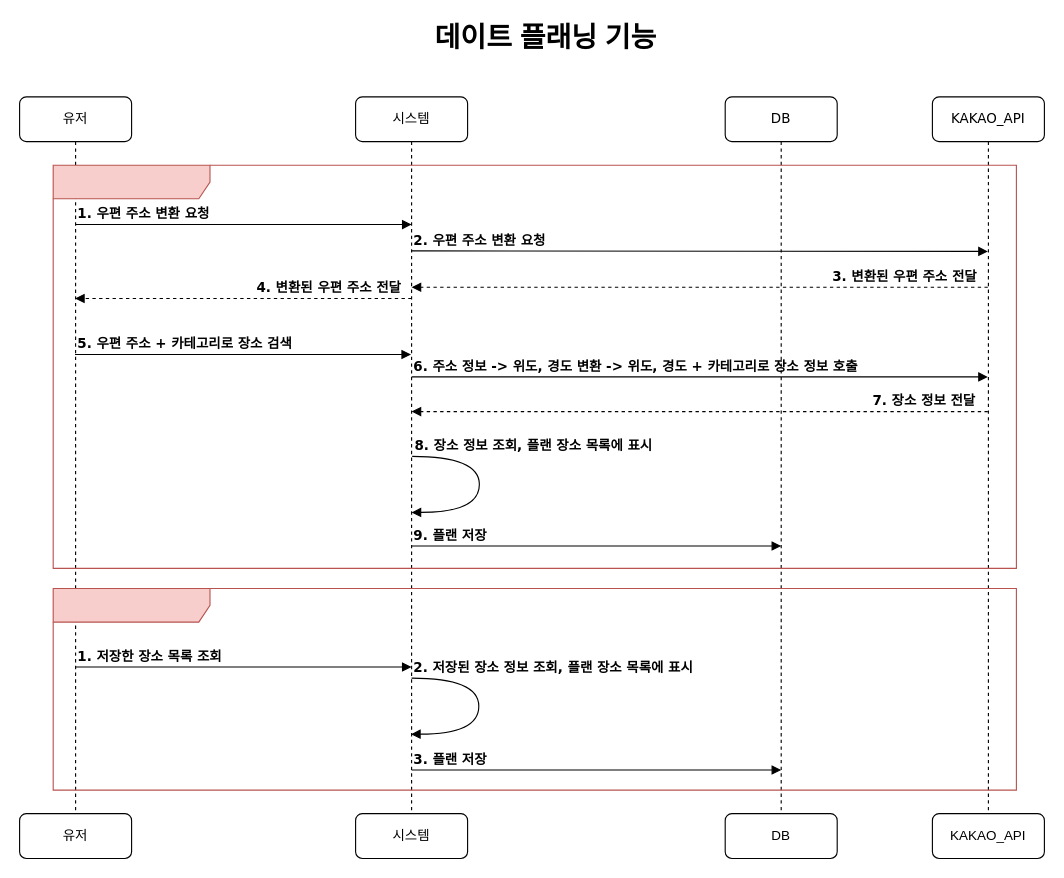
Image size: 1064x878. Some labels were removed from this diagram. Here are the shapes that lost their labels. From the top down, the box of each, then its label:
(52, 164, 1016, 568): 주소 검색으로 장소 찾기
(52, 587, 1016, 790): 저장한 장소에서 찾기
